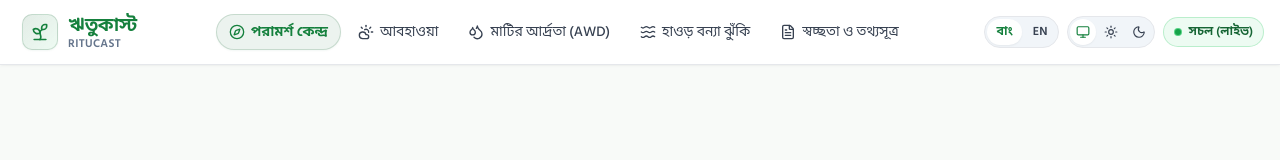
Test case: Language & Theme Toggles Feature › Language Toggle (Bangla & English) › defaults to Bangla and persists choice in localStorage
Expected: the text "পরামর্শ কেন্দ্র" is shown, [251,24,328,40]
Expected: the text "আবহাওয়া" is shown, [380,24,438,40]
Switch to English
Click the radio button with aria-label "English" at (1040, 32), box [1024,19,1056,45]
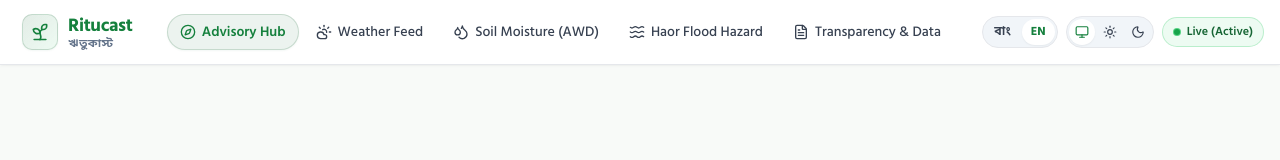
Result: the text "Advisory Hub" is shown at [202,24,286,40]
Result: the text "Weather Feed" is shown at [338,24,423,40]
Result: the text "Soil Moisture (AWD)" is shown at [475,24,599,40]
Switch back to Bangla
Click the radio button named "বাংলা" at (1003, 32), box [985,19,1020,45]
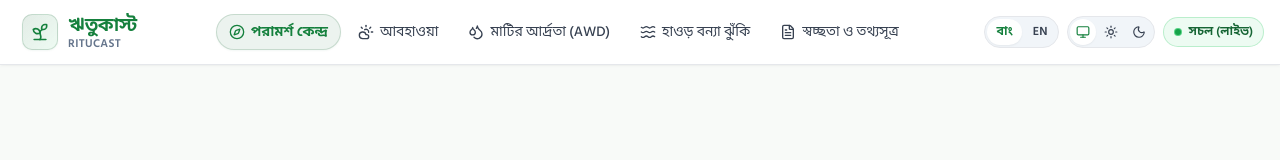
Result: the text "পরামর্শ কেন্দ্র" is shown at [251,24,328,40]
